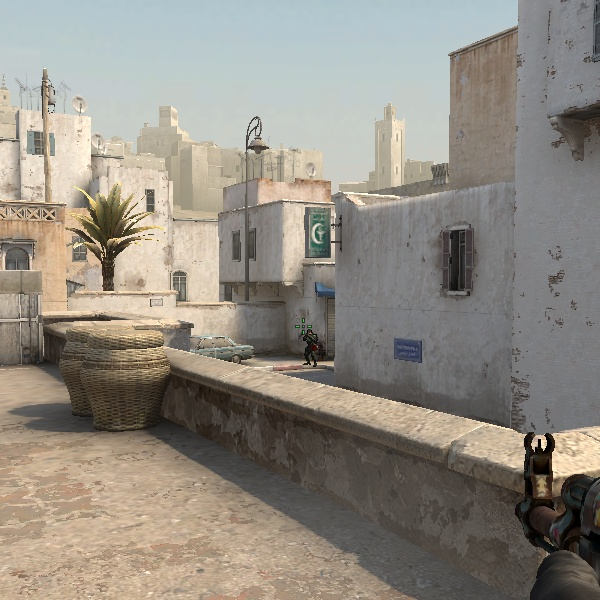ct_body: (298, 324, 322, 367)
ct_head: (305, 327, 315, 337)
